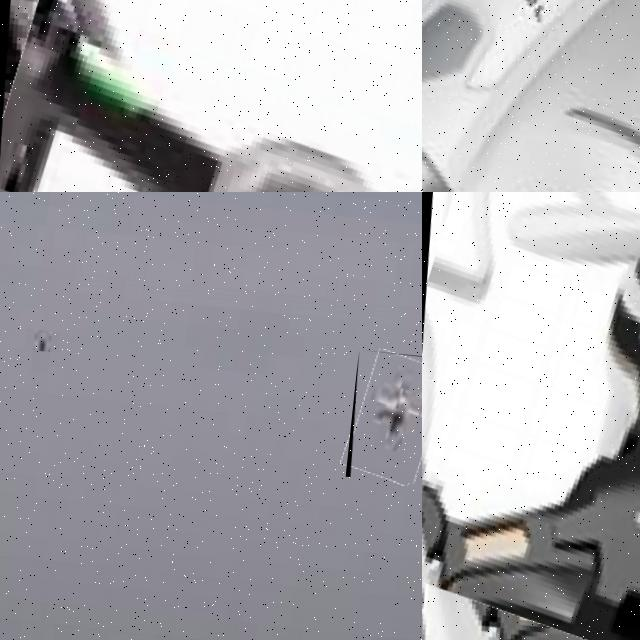0: (345, 349, 422, 485)
drone: (422, 192, 640, 640), (0, 0, 422, 192), (422, 0, 640, 192)
